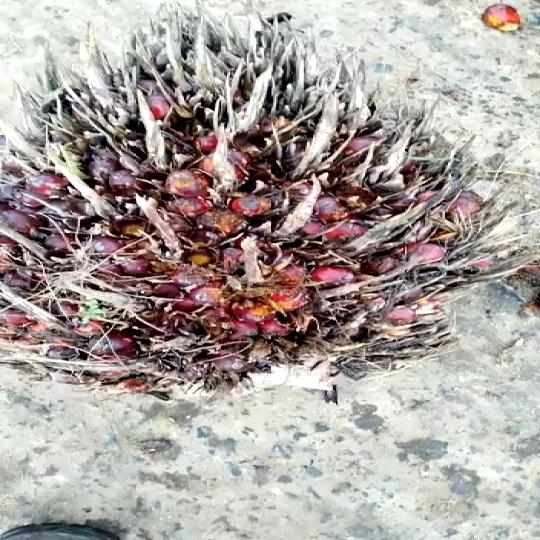terlalu masak: (0, 0, 515, 404)
